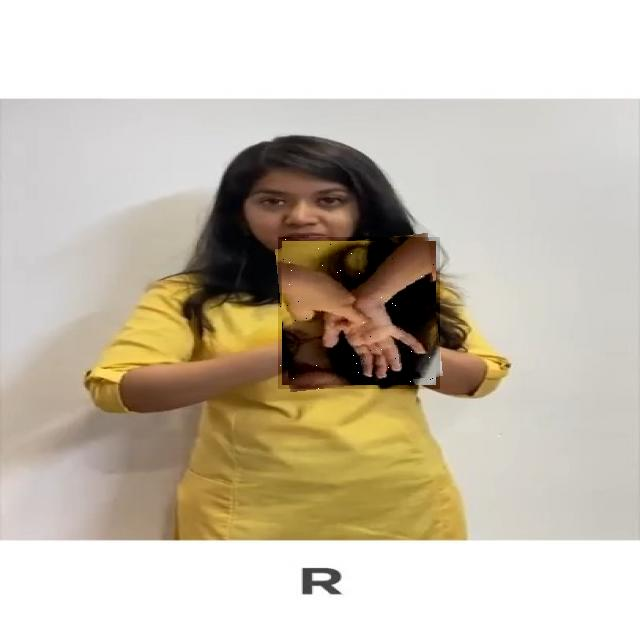R: (278, 237, 440, 389)
